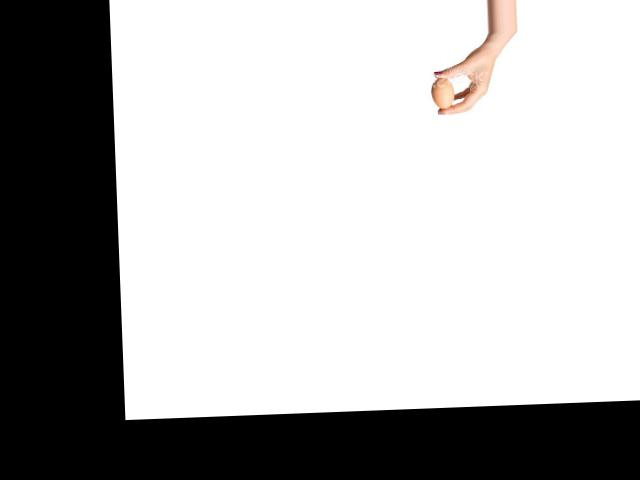egg: (432, 77, 454, 108)
